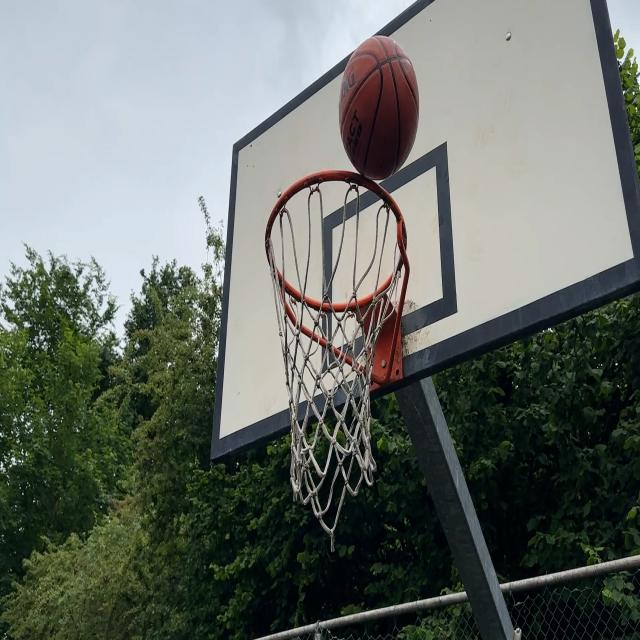rebound_hit: (339, 37, 419, 190)
